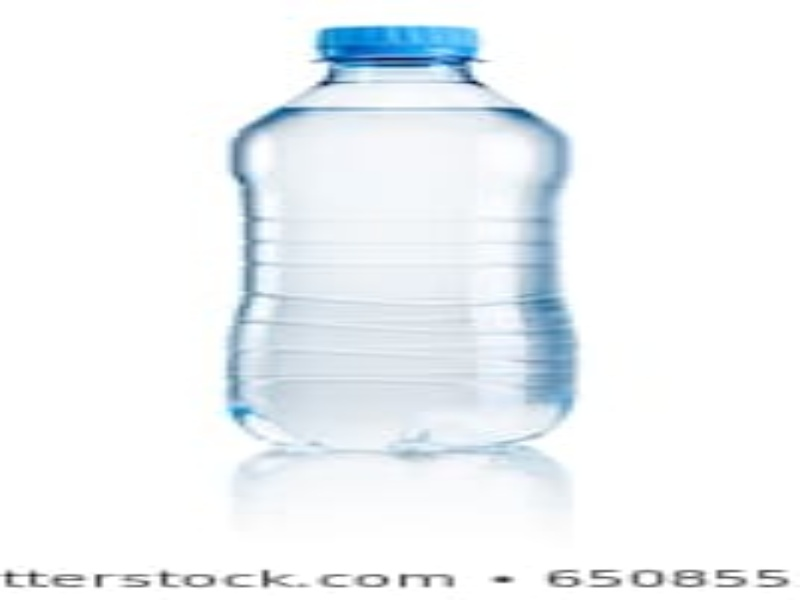bottle-cap: (303, 24, 486, 65)
plastic-bottle: (226, 23, 581, 459)
